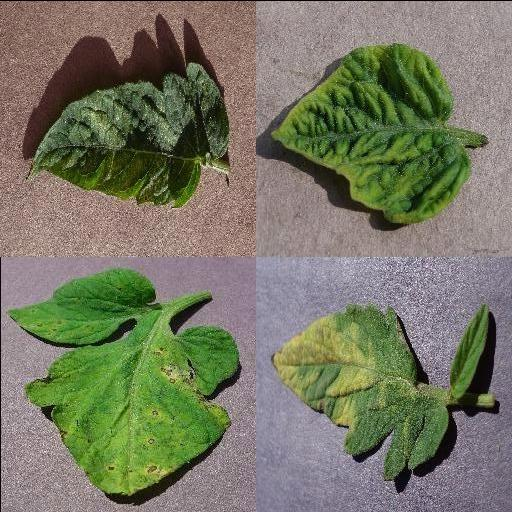Leaf Mold: (272, 304, 450, 478)
Septoria: (25, 323, 240, 495), (6, 265, 156, 345)
Spider Mites: (26, 62, 230, 208)
Yellow Leaf Curl Virus: (268, 40, 472, 221)
